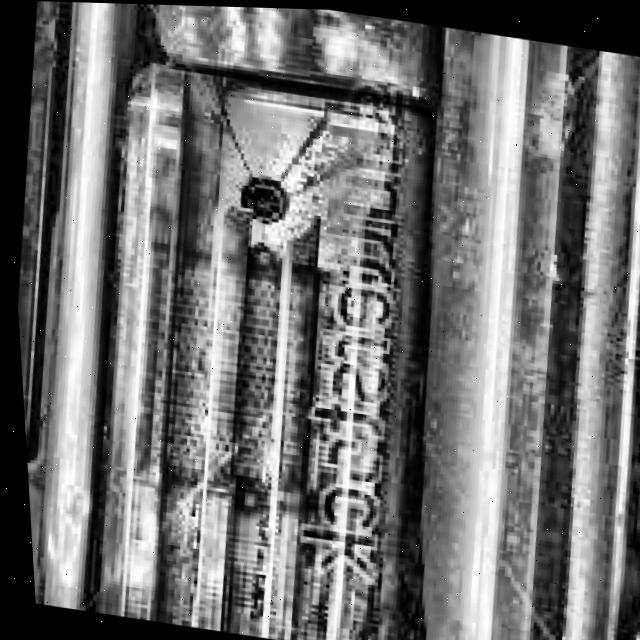tail_lamp: (202, 105, 347, 293)
